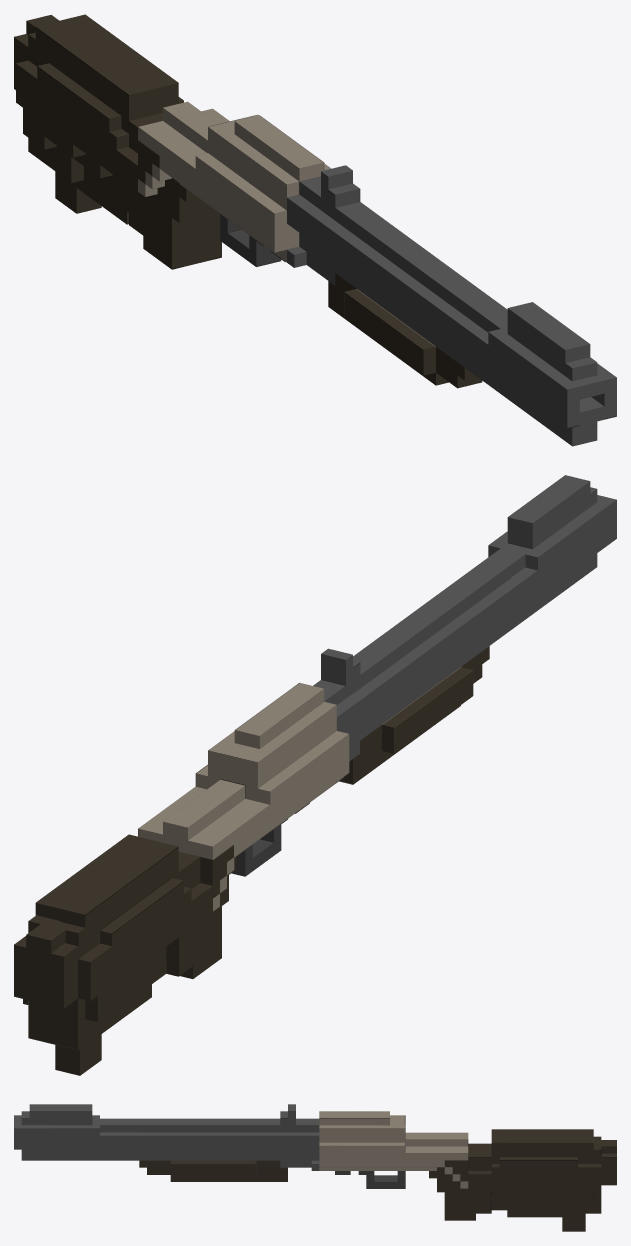
Rendered from ShotGun.fbx.
3 views of the same model, one above another, from view 1: azimuth 30°, elevation 25°; view 2: azimuth 150°, elevation 25°; view 3: azimuth 270°, elevation 25° (orthographic). The views are drawn at different scales.
Parts seen in each view (by area): view 1: ShotGun; view 2: ShotGun; view 3: ShotGun.
Part boxes in pixels (x1=…): ShotGun: x1=14, y1=14, x2=616, y2=446; ShotGun: x1=14, y1=475, x2=616, y2=1075; ShotGun: x1=14, y1=1104, x2=616, y2=1231.
Bounding box in the file's own units: 60 × 170 × 770.
